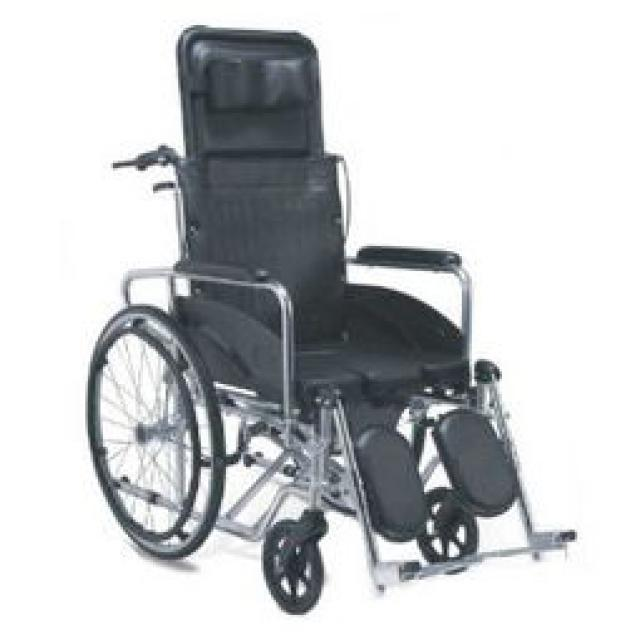wheelchair: (75, 10, 590, 618)
